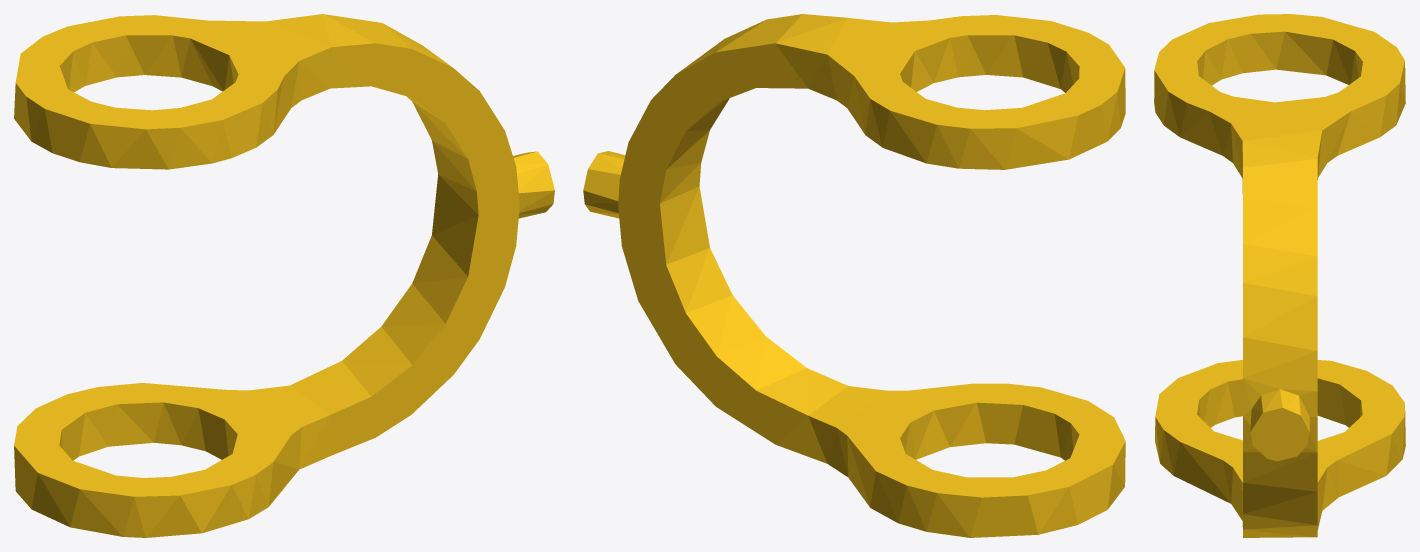
The model's file is fyy_Reduced.glb.
3 renders of one model, left to right at view 1: azimuth 30°, elevation 25°; view 2: azimuth 150°, elevation 25°; view 3: azimuth 270°, elevation 25°, orthographic. The views are drawn at different scales.
Parts seen in each view (by area): view 1: node_id3; view 2: node_id3; view 3: node_id3.
Boxes of the visible parts, x1,y1,x2,y2 form: node_id3: (14,14,554,537); node_id3: (583,14,1125,537); node_id3: (1154,14,1405,537).
Size of the model in its own units: 0.512 by 0.3938 by 0.2362.
1 material, 1 textured.
